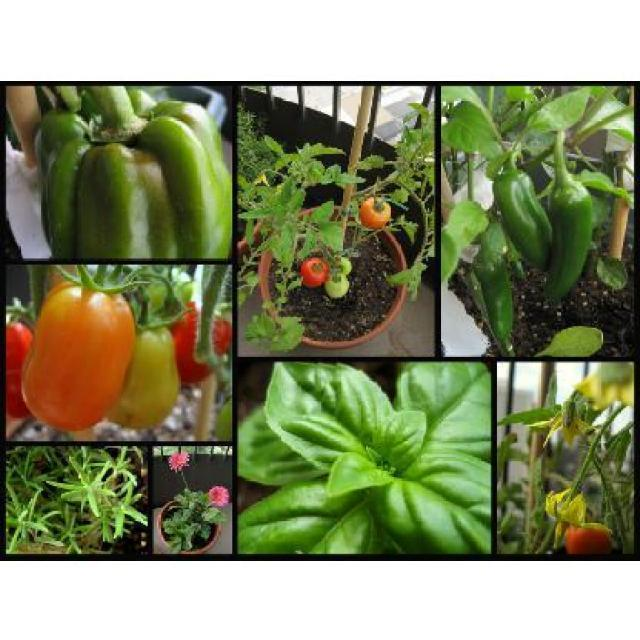Bell Pepper: (34, 79, 230, 259)
